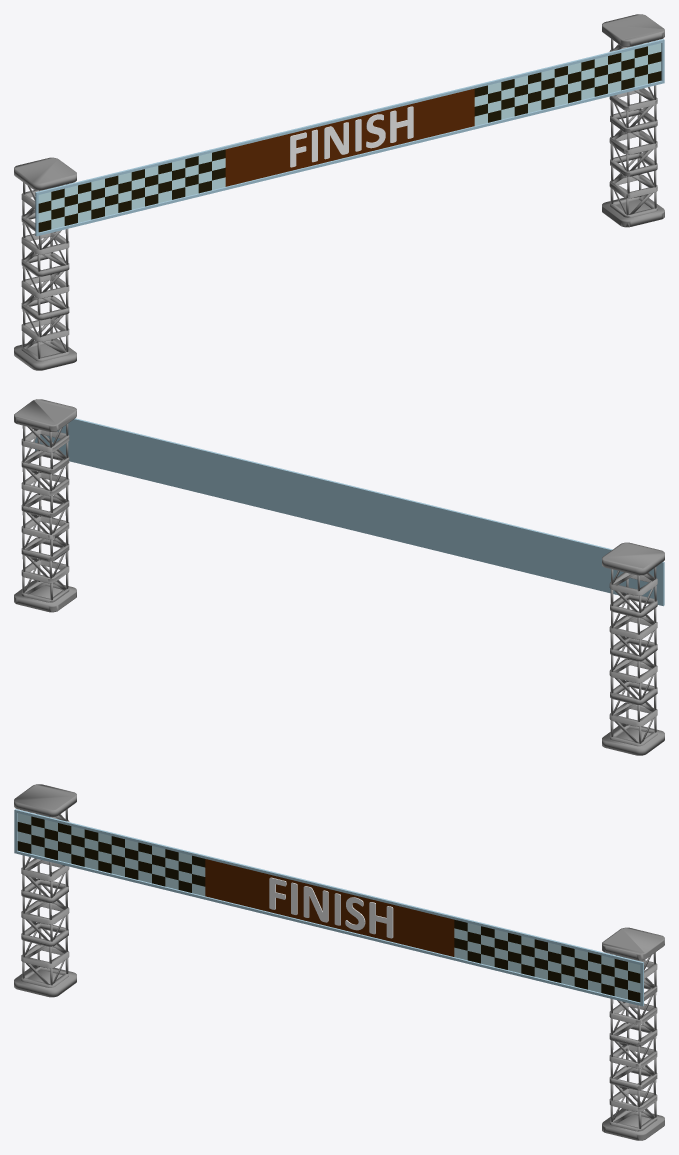
Rendered from finish_line.glb.
3 renders of one model, top to bottom at view 1: azimuth 30°, elevation 25°; view 2: azimuth 150°, elevation 25°; view 3: azimuth 330°, elevation 25°, orthographic.
Visible parts, largest first — view 1: Board.001_CP Black_0, pole.001_Metal_0, Finish__0; view 2: Board.001_CP Black_0, pole.001_Metal_0; view 3: Board.001_CP Black_0, pole.001_Metal_0, Finish__0.
Boxes of the visible parts, x1,y1,x2,y2 form: Board.001_CP Black_0: (35,39,664,236); pole.001_Metal_0: (14,14,664,370); Finish__0: (290,106,413,167); Board.001_CP Black_0: (35,418,664,606); pole.001_Metal_0: (14,399,664,755); Board.001_CP Black_0: (14,809,643,1006); pole.001_Metal_0: (14,784,664,1140); Finish__0: (269,877,393,938).
Bounding box in the file's own units: 15.16 × 4.28 × 1.05.
Materials: 3 (1 with a texture image).
